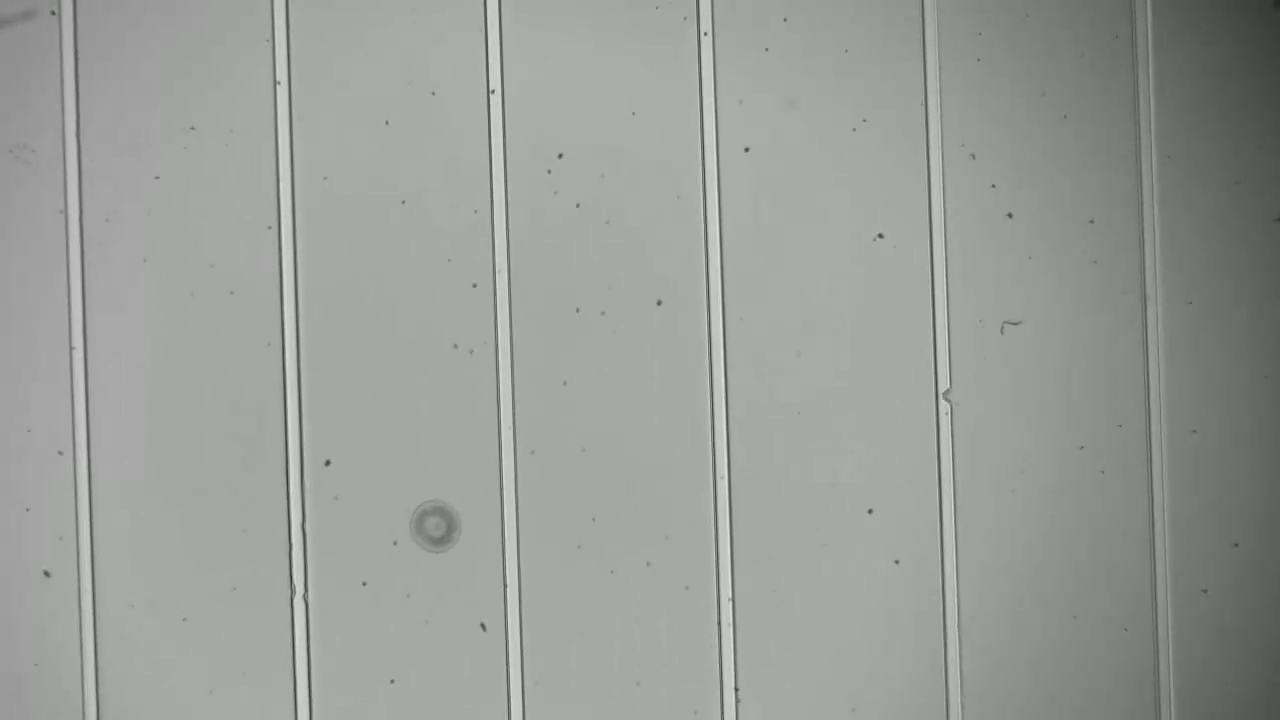edge_bite: (278, 573, 322, 611), (932, 381, 960, 410)
